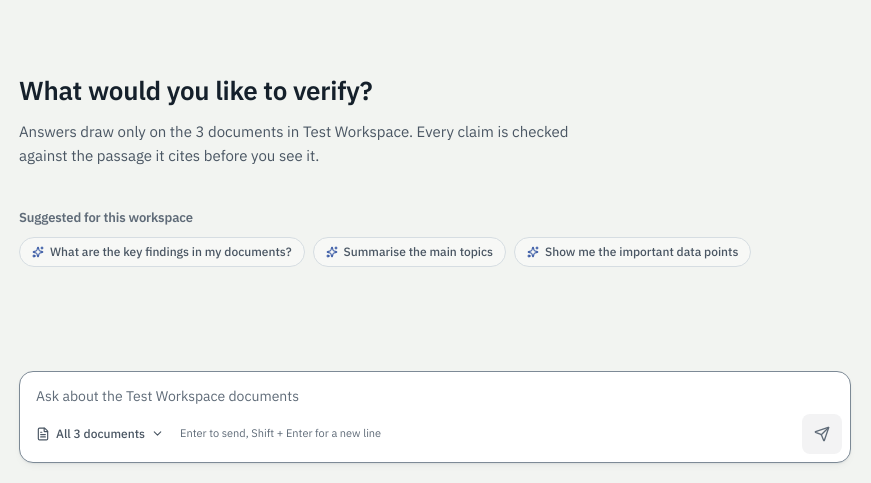
Test: ChatPage › replaces the errored bubble on Retry instead of appending a second turn
Type "A doomed question" into the text box named "Ask a question about this workspace". click: (435, 391)
box: [20,372,850,410]
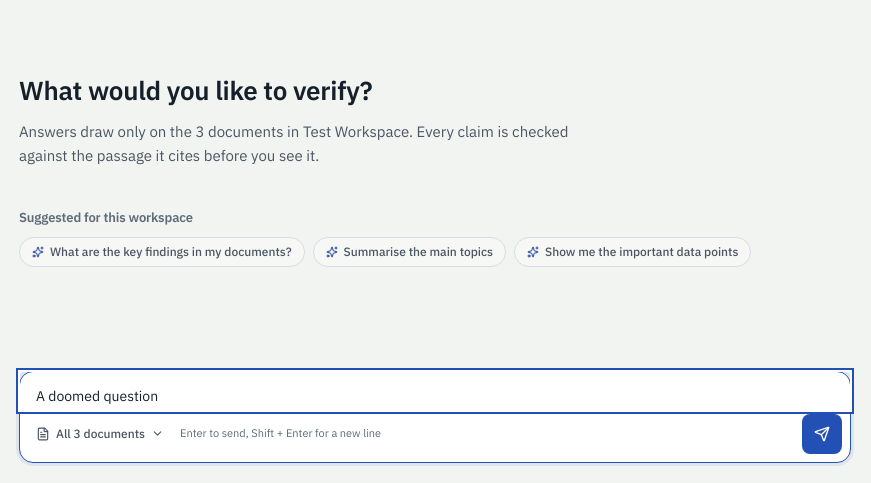
Press Enter
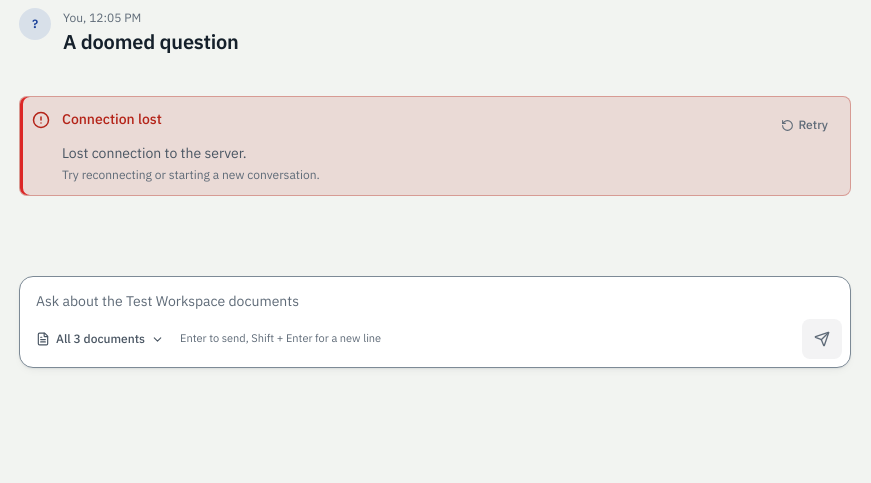
Expected: the message shows "Connection lost", [62,110,162,128]
Expected: the number of headings "A doomed question" is 1, [63,28,239,56]
Click the button with aria-label "retry this question". click: (805, 125)
box: [771,109,838,141]
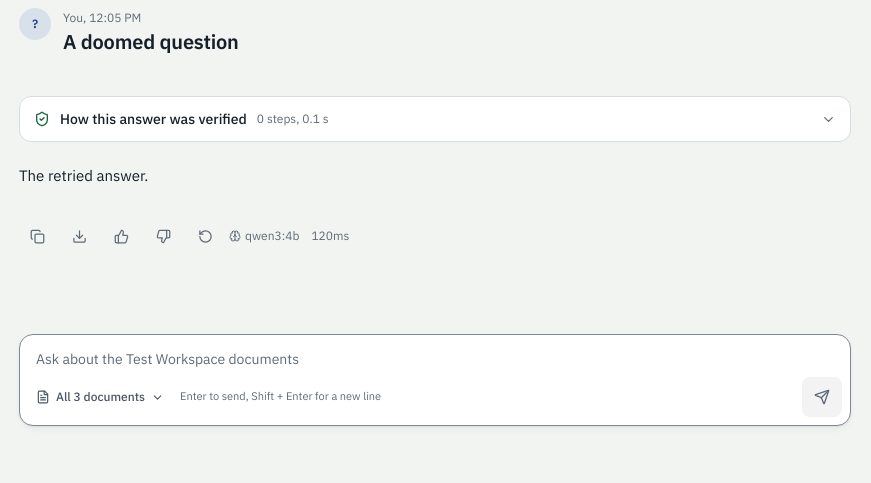
Expected: the heading "A doomed question" is shown, [63,28,239,56]
Expected: the message is gone
Expected: the text "The retried answer." is shown, [19,166,148,185]
